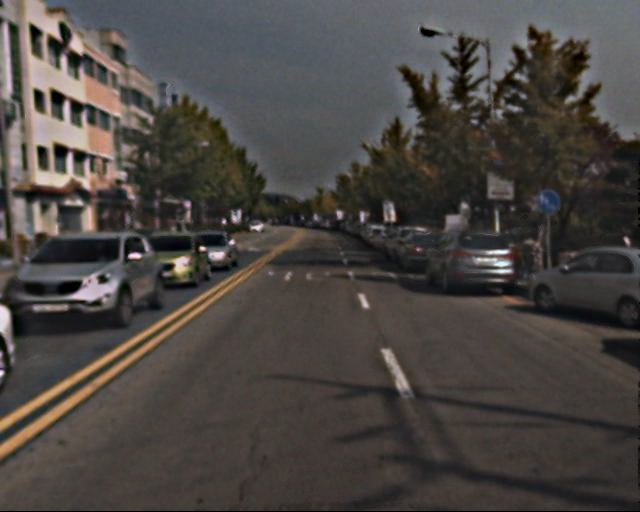person: (500, 216, 526, 279), (523, 217, 549, 280), (602, 223, 627, 283)
